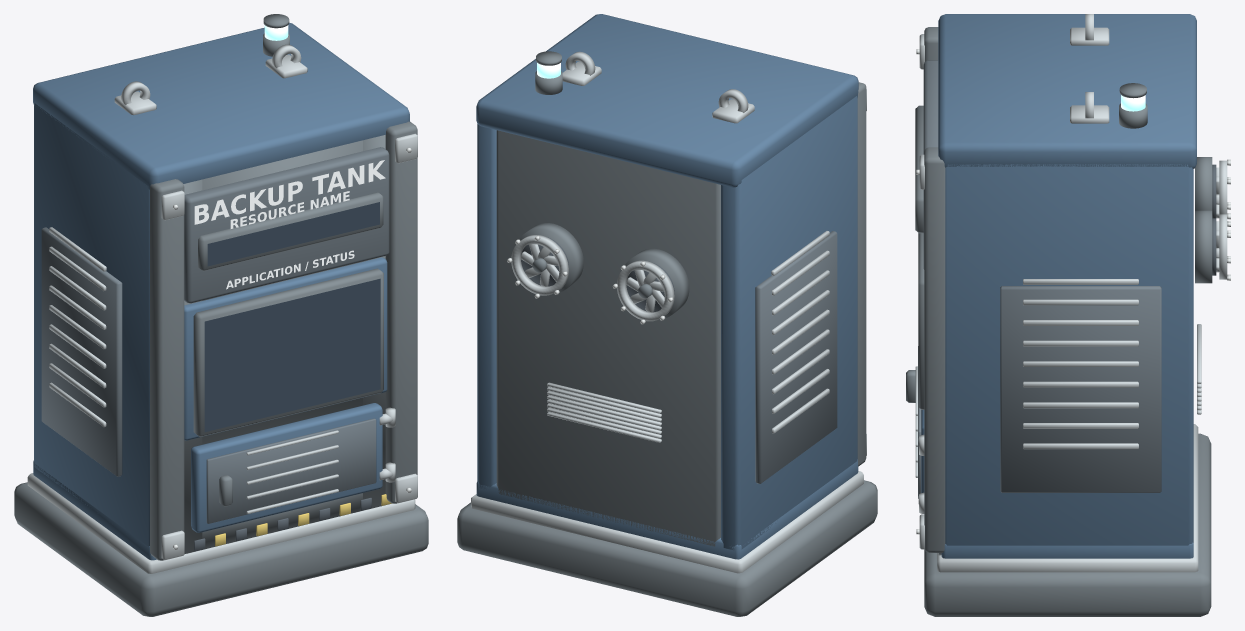
The model's file is backup_tank_ultra.glb.
3 views of the same model, side by side, from view 1: azimuth 30°, elevation 25°; view 2: azimuth 150°, elevation 25°; view 3: azimuth 270°, elevation 25° (orthographic). The views are drawn at different scales.
Visible parts, largest first — view 1: Roof_navy, SideWall_navy, CornerPost_frame, LiveViewSurface_glass, Skid_frame, FrontHeader_graphite, SideServicePanel_graphite, DoorMoving_Inset_graphite, DoorMoving_Panel_navy, SkidDeck_steel, LiveViewSurfaceFrame_frame, ScreenSupport_navy (+16 smaller); view 2: BackWall_frame, SideWall_navy, Roof_navy, Skid_frame, SideServicePanel_graphite, SkidDeck_steel, KickPlate_navy, RearFan_steel, RearVent_steel, CornerPost_frame, SideLouver_steel, RearFan_frame (+3 smaller); view 3: SideWall_navy, Roof_navy, SideServicePanel_graphite, Skid_frame, CornerPost_frame, SideLouver_steel, SkidDeck_steel, KickPlate_navy, RearFan_frame, FrontHeader_graphite, RearFan_steel, LiftMount_steel (+7 smaller).
Part boxes in pixels (box(x1,y1,x2,y2)): Roof_navy: box(33, 23, 409, 189); SideWall_navy: box(34, 103, 149, 546); CornerPost_frame: box(150, 121, 417, 560); LiveViewSurface_glass: box(204, 278, 380, 432); Skid_frame: box(14, 482, 428, 616); FrontHeader_graphite: box(184, 147, 389, 303); SideServicePanel_graphite: box(41, 227, 122, 476); DoorMoving_Inset_graphite: box(206, 418, 376, 523); DoorMoving_Panel_navy: box(191, 403, 382, 532); SkidDeck_steel: box(27, 473, 415, 573); LiveViewSurfaceFrame_frame: box(193, 268, 383, 436); ScreenSupport_navy: box(184, 257, 387, 440); BackWall_frame: box(496, 130, 720, 546); SideWall_navy: box(477, 96, 857, 550); Roof_navy: box(476, 14, 858, 187); Skid_frame: box(457, 480, 877, 616); SideServicePanel_graphite: box(755, 231, 837, 483); SkidDeck_steel: box(471, 471, 863, 573); KickPlate_navy: box(476, 459, 858, 559); RearFan_steel: box(511, 235, 674, 321); RearVent_steel: box(547, 382, 661, 442); CornerPost_frame: box(857, 82, 866, 466); SideLouver_steel: box(771, 231, 829, 433); RearFan_frame: box(519, 223, 689, 319); SideWall_navy: box(945, 164, 1193, 545); Roof_navy: box(938, 14, 1196, 168); SideServicePanel_graphite: box(1000, 286, 1161, 492); Skid_frame: box(924, 433, 1211, 616); CornerPost_frame: box(924, 27, 945, 552); SideLouver_steel: box(1023, 279, 1138, 449); SkidDeck_steel: box(937, 424, 1198, 572); KickPlate_navy: box(941, 542, 1193, 558); RearFan_frame: box(1195, 157, 1212, 283); FrontHeader_graphite: box(923, 60, 938, 269); RearFan_steel: box(1216, 160, 1227, 279); LiftMount_steel: box(1070, 27, 1109, 123).
Bounding box in the file's own units: 1.6 × 2.53 × 1.48.
